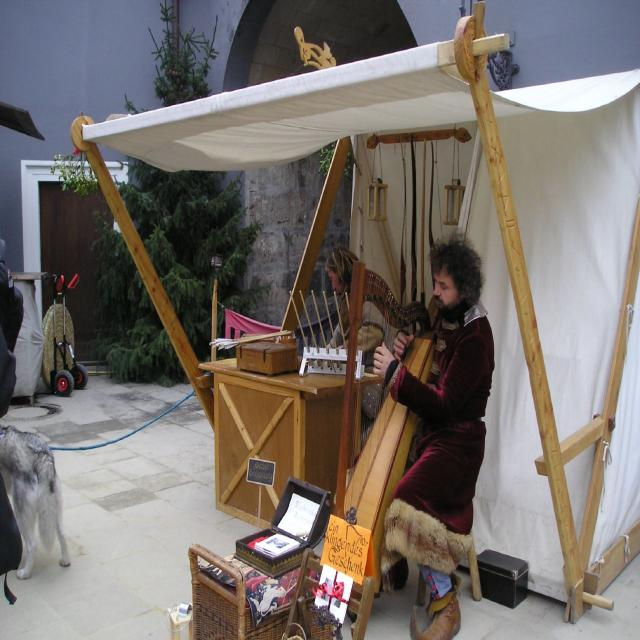harp: (329, 258, 440, 596)
